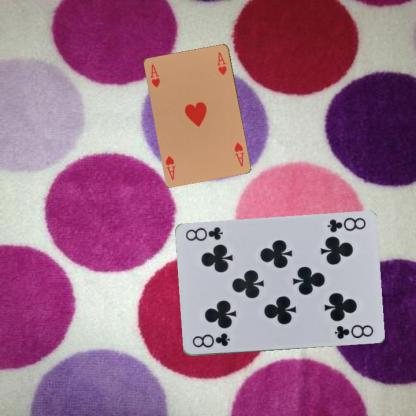8c: (190, 330, 231, 350), (325, 215, 367, 234)
Ah: (231, 139, 245, 168), (148, 62, 162, 88)
